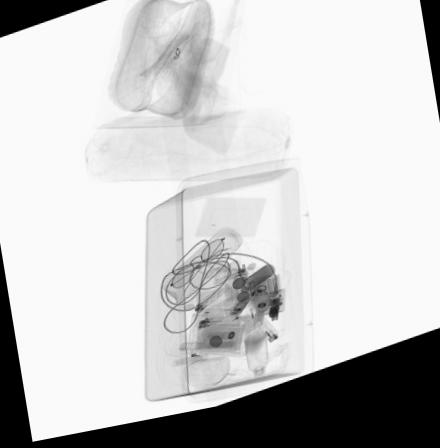Lighter: (247, 315, 281, 354)
